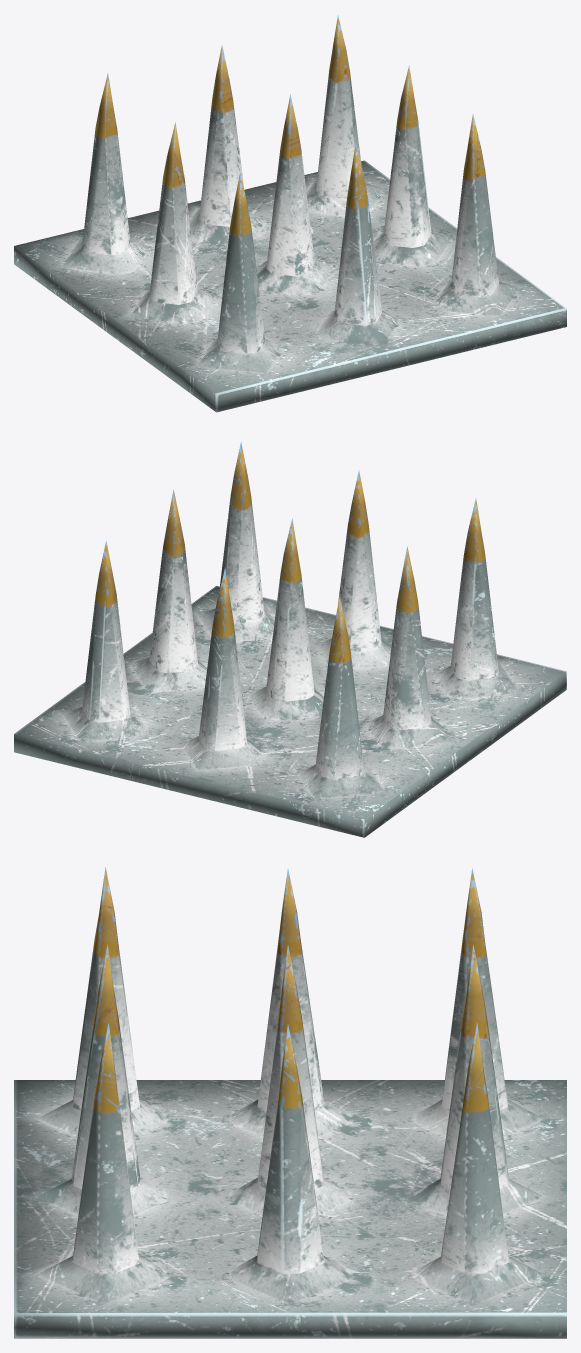
Rendered from Kolce_with_up.gltf.
3 views of the same model, one above another, from view 1: azimuth 30°, elevation 25°; view 2: azimuth 150°, elevation 25°; view 3: azimuth 270°, elevation 25° (orthographic). The views are drawn at different scales.
Visible parts, largest first — view 1: Kolce; view 2: Kolce; view 3: Kolce.
Part boxes in pixels (x1=…): Kolce: x1=14, y1=15, x2=566, y2=412; Kolce: x1=14, y1=441, x2=566, y2=837; Kolce: x1=14, y1=867, x2=566, y2=1338.
Size of the model in its own units: 2 by 1.11 by 2.
Materials: 1 (1 with a texture image).
